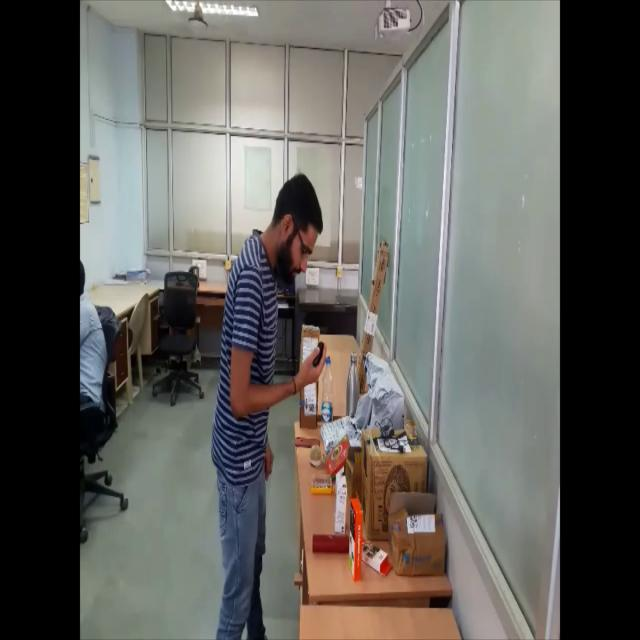normal: (210, 172, 330, 640)
